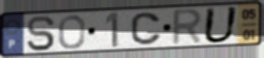1: (104, 11, 120, 50)
C: (129, 11, 164, 46)
O: (57, 14, 87, 50)
R: (170, 7, 205, 47)
S: (25, 15, 57, 53)
U: (201, 6, 241, 45)
